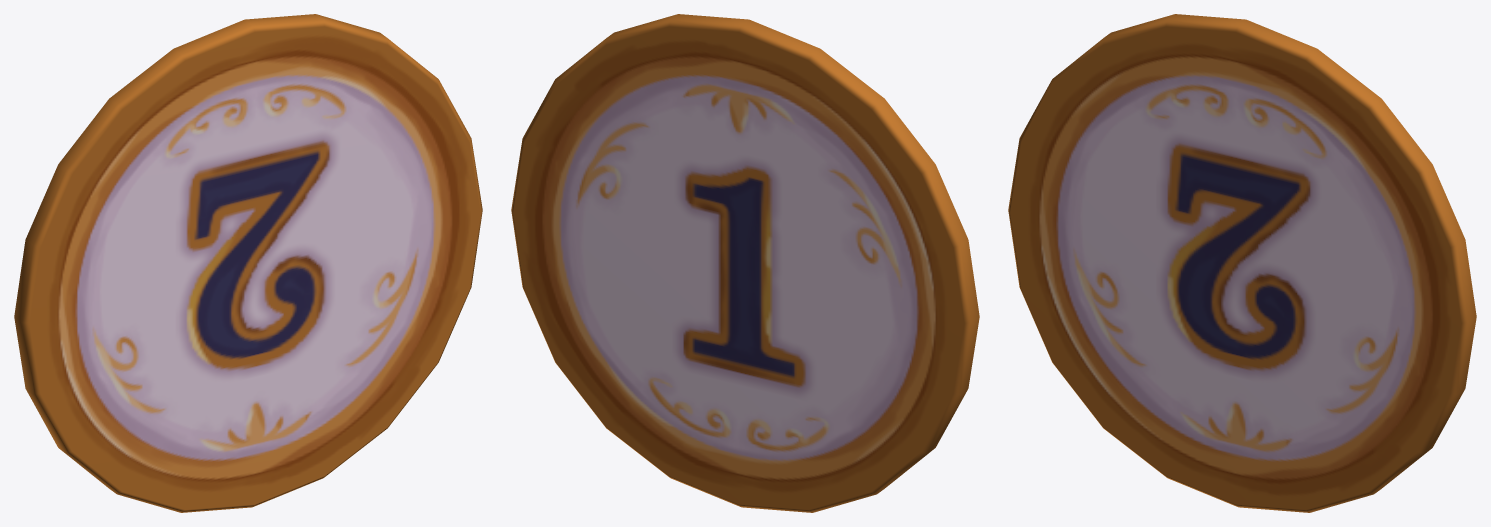
The model's file is d2-urik.glb.
3 renders of one model, left to right at view 1: azimuth 30°, elevation 25°; view 2: azimuth 150°, elevation 25°; view 3: azimuth 330°, elevation 25°, orthographic.
Visible parts, largest first — view 1: Mesh_0; view 2: Mesh_0; view 3: Mesh_0.
Part boxes in pixels (box(x1,y1,x2,y2)): Mesh_0: box(14, 14, 482, 512); Mesh_0: box(511, 14, 979, 512); Mesh_0: box(1008, 14, 1476, 512).
Bounding box in the file's own units: 182 × 182 × 9.11.
1 material, 1 textured.
